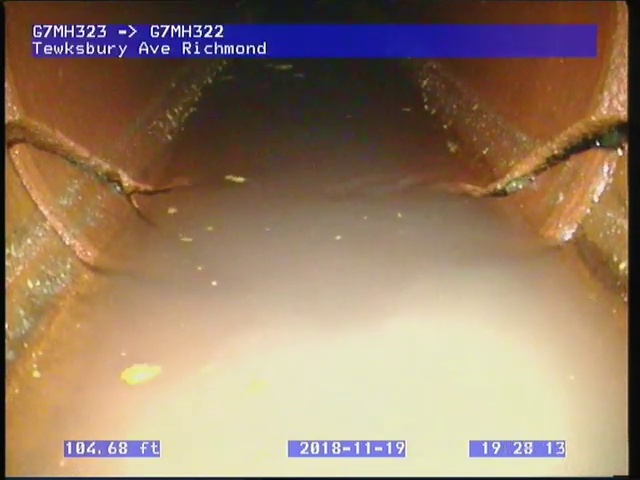crack: (6, 102, 180, 228), (471, 115, 627, 202)
